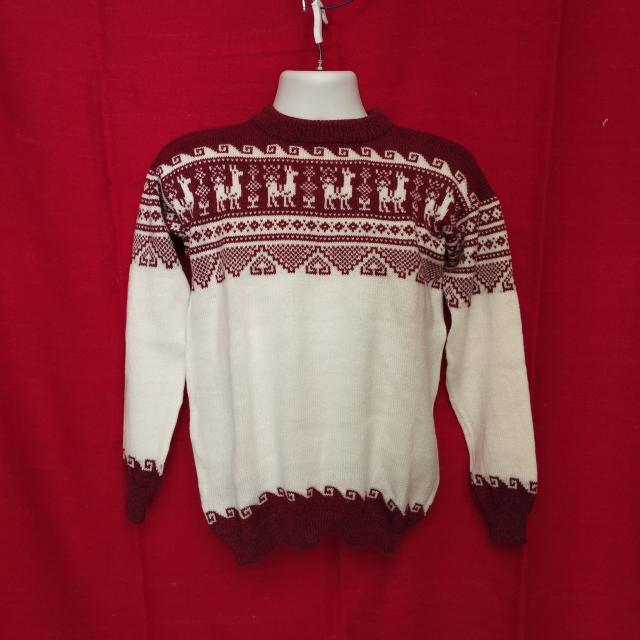Chompa: (121, 68, 539, 564)
